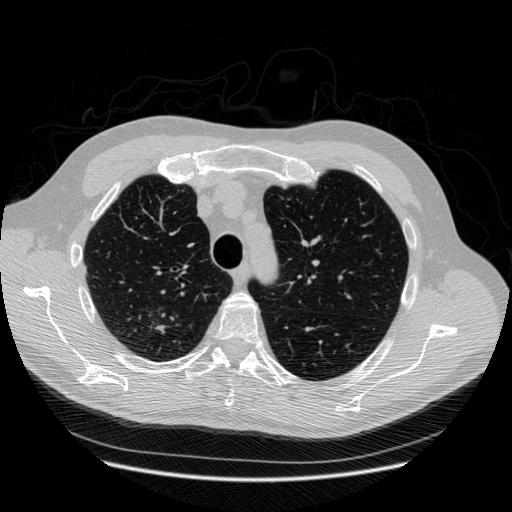nodule: (155, 322, 168, 335)
